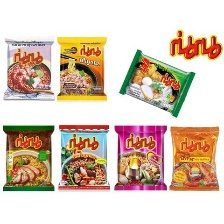snack: (115, 45, 199, 120), (110, 120, 171, 194), (54, 119, 114, 193), (0, 29, 59, 104), (0, 119, 58, 194), (52, 29, 109, 105), (166, 119, 223, 195)
